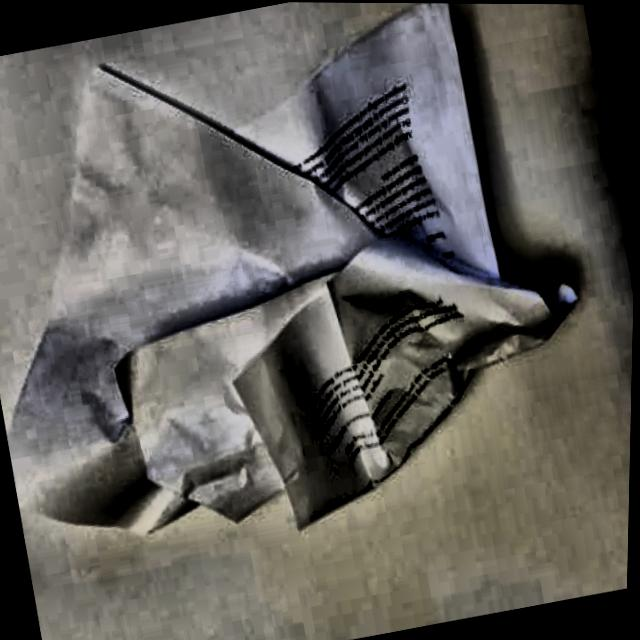Paper: (0, 0, 625, 594)
